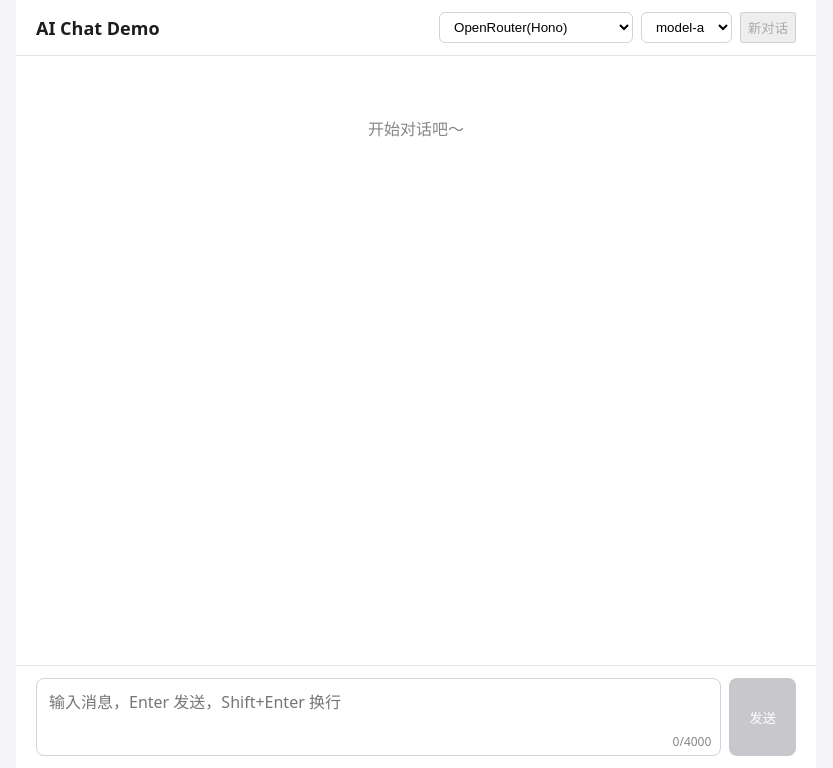
it: App › 发送消息后显示流式回复,并可以重新生成
The width and height of the screenshot is (833, 768).
Type "讲个故事" into the text box at (379, 717), box [36,678,721,756]
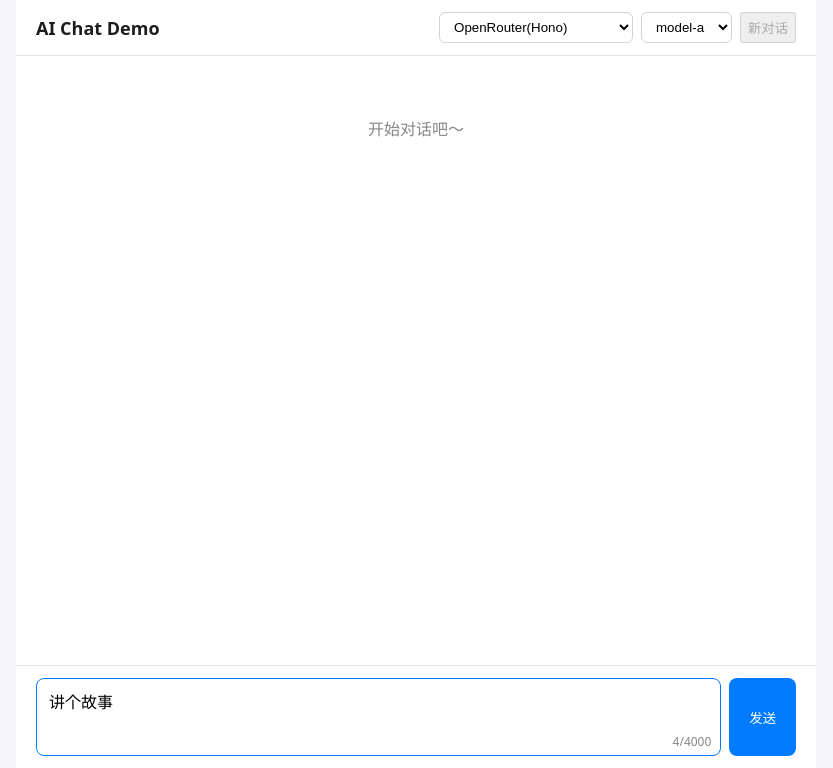
Click the button "发送" at (763, 717), box [729,678,796,756]
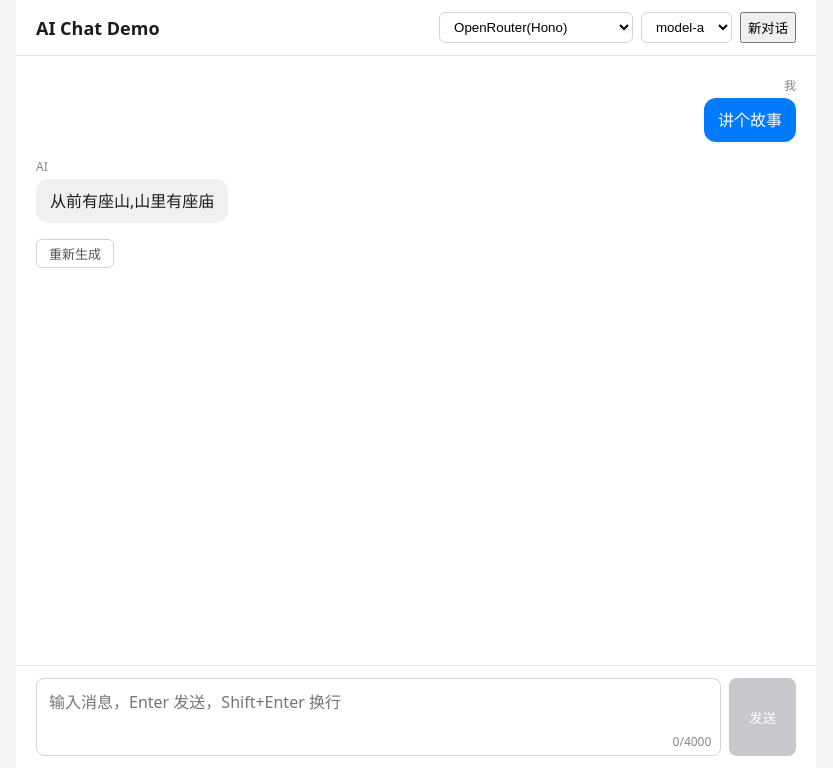
Result: the text "讲个故事" is shown at [704,98,796,142]
Result: the text "从前有座山,山里有座庙" is shown at [36,179,228,223]
Click the button "重新生成" at (75, 254), box [36,239,114,268]
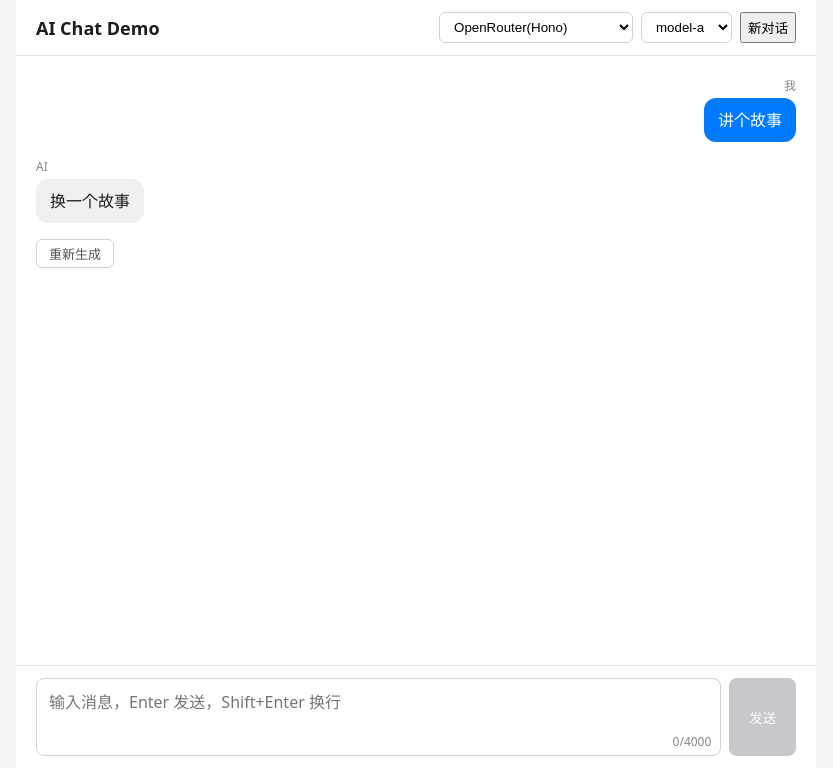
Result: the text "换一个故事" is shown at [36,179,144,223]
Result: the text "从前有座山,山里有座庙" is gone
